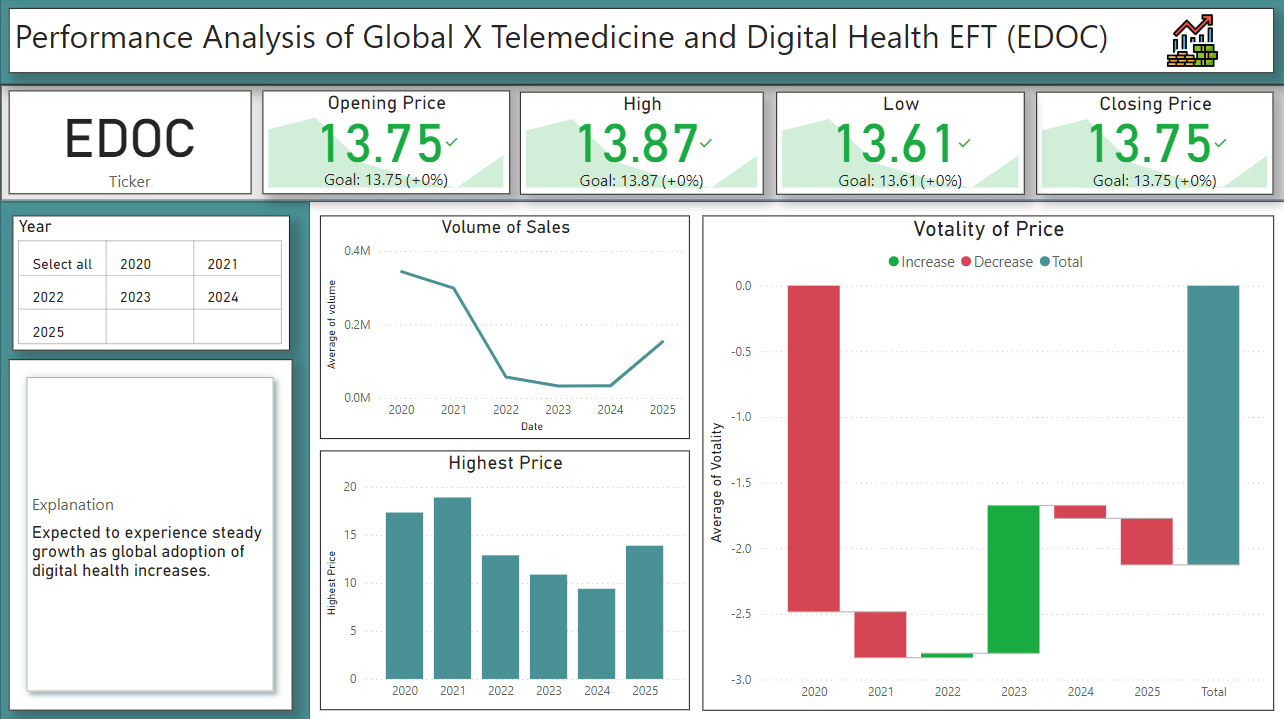

The page's visual inventory and layout, read from the dashboard file:
{"tool":"powerbi","page":{"name":"EDOC","canvas":[1280,720],"ordinal":0},"visuals":[{"type":"shape","box":[354.5,252.5,419.2,467.7],"z":0},{"type":"shape","box":[0,252.5,303.5,467.7],"z":1000},{"type":"shape","box":[0,64.7,1280,52.2],"z":2000},{"type":"image","box":[293.6,64.7,232.6,150.5],"z":3000},{"type":"card","title":"Opening Price","fields":{"Values":["Avg(Comparisons.open)"]},"box":[11.2,116.9,292.3,103.2],"z":4000},{"type":"card","title":"High","fields":{"Values":["Avg(Averages.high)"]},"box":[518.7,116.9,242.6,110.7],"z":5000},{"type":"card","title":"Low","fields":{"Values":["Avg(Comparisons.low)"]},"box":[784.9,116.9,233.9,110.7],"z":6000},{"type":"card","title":"Closing Price","fields":{"Values":["Avg(Averages.adjclose)"]},"box":[1035,116.9,236.4,110.7],"z":7000},{"type":"lineChart","fields":{"Category":["Averages.Date"],"Y":["Avg(Averages.high)"]},"box":[379.4,543.6,373.2,176.6],"z":8000},{"type":"textbox","box":[0,19.9,1280,70.9],"z":9000},{"type":"slicer","fields":{"Values":["Averages.Date"]},"box":[21.1,414.2,261.2,82.1],"z":10000},{"type":"card","title":"High","fields":{"Values":["Min(2021.ticker)"]},"box":[21.1,272.4,261.2,110.7],"z":11000},{"type":"lineChart","title":"Volume of Sales","fields":{"Category":["Averages.Date"],"Y":["Avg(Averages.volume)"]},"box":[375.7,297.3,376.9,199],"z":12000},{"type":"cardVisual","fields":{"Data":["Explainantion.YearExplanation"]},"box":[21.1,518.7,261.2,201.5],"z":13000},{"type":"waterfallChart","title":"Votality of Price","fields":{"Category":["Averages.Date"],"Y":["Avg(Averages.Votality)"]},"box":[843.4,287.4,405.5,432.9],"z":14000},{"type":"shape","box":[375.7,262.5,376.9,49.8],"z":15000},{"type":"shape","box":[379.4,518.7,376.9,49.8],"z":16000},{"type":"textbox","box":[375.7,252.5,301,48.5],"z":17000},{"type":"textbox","box":[375.7,510,301,48.5],"z":18000},{"type":"shape","box":[843.4,245.1,405.5,42.3],"z":19000},{"type":"image","box":[671.7,258.7,163,138.1],"z":20000}]}

Visuals, with their boxes in screenshot pixels (x1, y1, x2, y2), scaled from the page's 1280x720 canvas onto the 1284x719 screenshot:
shape: Rect(356, 252, 776, 718)
shape: Rect(0, 252, 304, 718)
shape: Rect(0, 65, 1283, 117)
image: Rect(295, 65, 528, 215)
"Opening Price" card: Rect(11, 117, 304, 220)
"High" card: Rect(520, 117, 764, 227)
"Low" card: Rect(787, 117, 1022, 227)
"Closing Price" card: Rect(1038, 117, 1275, 227)
lineChart - Averages.Date x Avg(Averages.high): Rect(381, 543, 755, 718)
textbox: Rect(0, 20, 1283, 91)
slicer - Averages.Date: Rect(21, 414, 283, 496)
"High" card: Rect(21, 272, 283, 383)
"Volume of Sales" lineChart: Rect(377, 297, 755, 496)
cardVisual - Explainantion.YearExplanation: Rect(21, 518, 283, 718)
"Votality of Price" waterfallChart: Rect(846, 287, 1253, 718)
shape: Rect(377, 262, 755, 312)
shape: Rect(381, 518, 759, 568)
textbox: Rect(377, 252, 679, 301)
textbox: Rect(377, 509, 679, 558)
shape: Rect(846, 245, 1253, 287)
image: Rect(674, 258, 837, 396)
